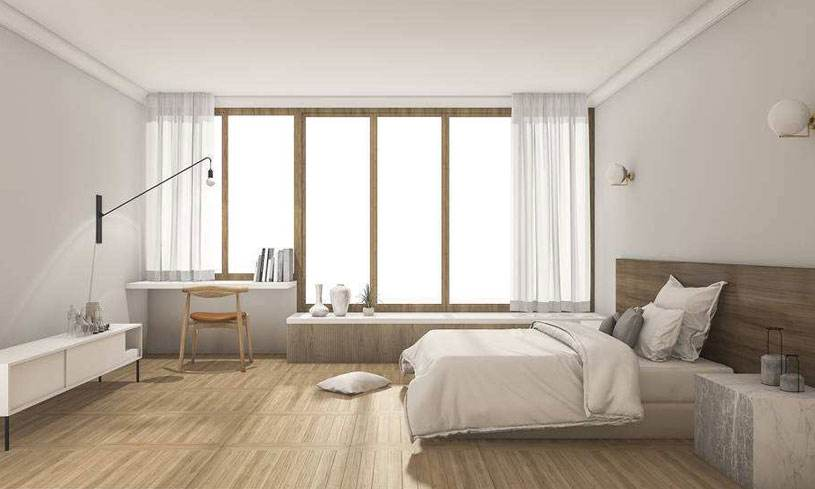床: (397, 317, 662, 446)
枕头: (601, 278, 724, 362), (311, 372, 390, 398)
灯: (93, 158, 220, 244), (765, 96, 815, 143), (606, 160, 638, 191)
